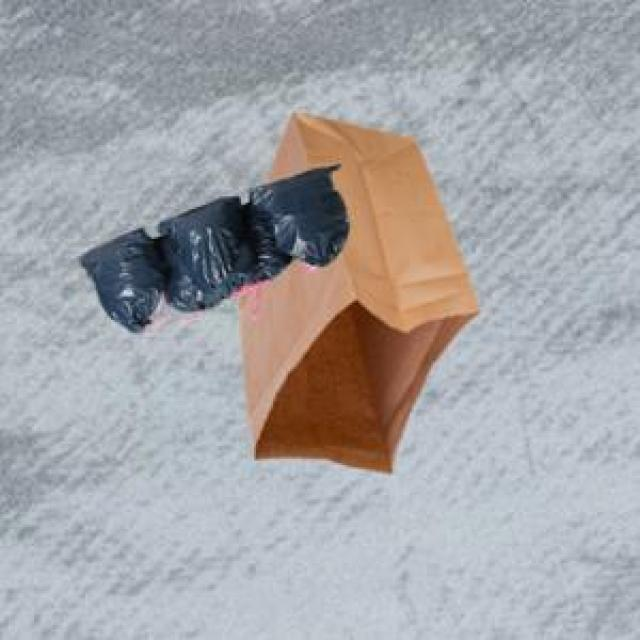miscellaneous trash: (75, 161, 346, 329)
paper: (233, 109, 476, 469)
